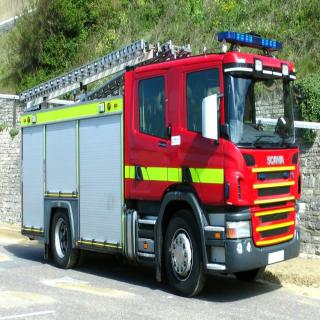Fire_truck: (19, 30, 303, 298)
